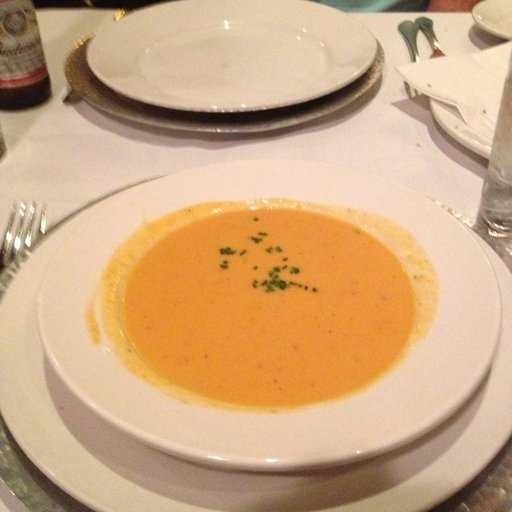soup: (91, 200, 435, 403)
